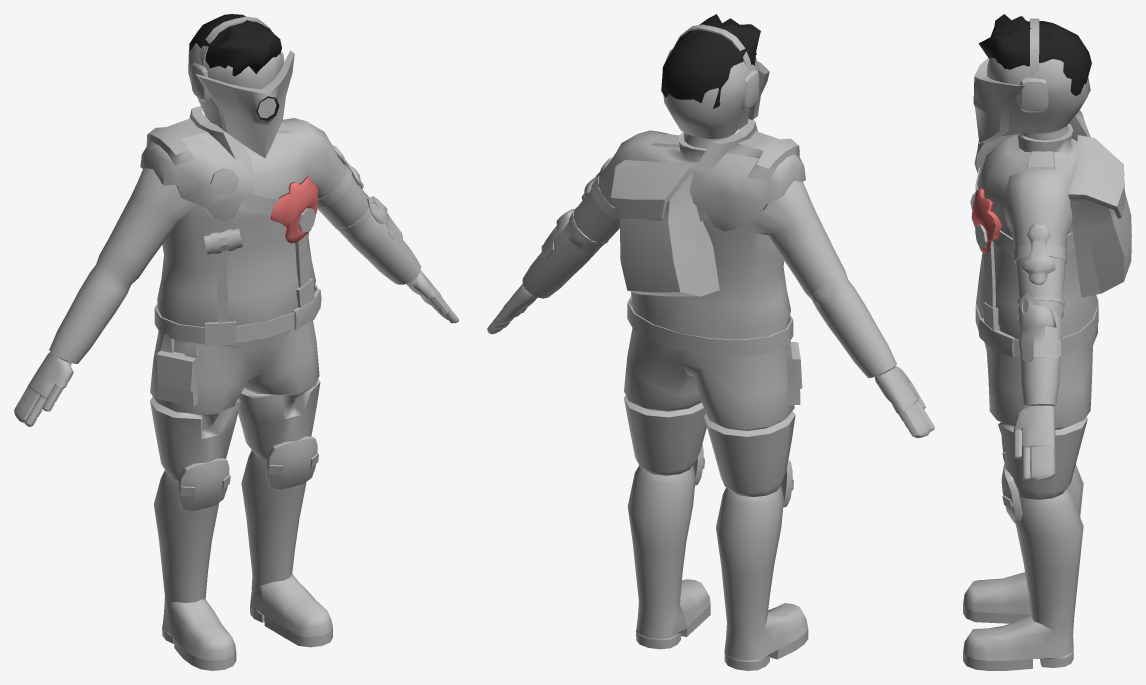
Rendered from C_Gunner_aPose.fbx.
3 views of the same model, side by side, from view 1: azimuth 30°, elevation 25°; view 2: azimuth 150°, elevation 25°; view 3: azimuth 270°, elevation 25° (orthographic).
Parts seen in each view (by area): view 1: body, pauldron, helmet, knee_covers, hair, waist_belt, belt_pouch, chest_piece, straps, headphones, ammo_rounds; view 2: body, backpack, pauldron, hair, helmet, waist_belt, headphones, belt_pouch, knee_covers; view 3: body, backpack, helmet, hair, forearm_guard, waist_belt, headphones, upper_arm_guard, chest_piece, straps, knee_covers, pauldron (+2 smaller).
Boxes of the visible parts, x1,y1,x2,y2 form: body: (14,117,458,670); pauldron: (140,106,254,221); helmet: (188,43,294,158); knee_covers: (177,436,318,510); hair: (189,14,281,76); waist_belt: (154,284,321,346); belt_pouch: (156,333,198,406); chest_piece: (270,176,318,243); straps: (215,219,314,322); headphones: (191,16,284,101); ammo_rounds: (203,229,242,254); body: (487,130,934,670); backpack: (611,160,719,296); pauldron: (689,119,805,231); hair: (661,14,760,108); helmet: (662,47,769,138); waist_belt: (627,296,793,356); headphones: (674,24,759,109); belt_pouch: (784,324,802,405); knee_covers: (693,443,793,507); body: (963,123,1098,670); backpack: (1068,135,1131,297); helmet: (973,57,1090,142); hair: (978,14,1091,96); forearm_guard: (1017,293,1061,362); waist_belt: (975,304,1098,357); headphones: (1019,18,1048,112); upper_arm_guard: (1022,223,1055,285); chest_piece: (971,188,1001,252); straps: (983,241,999,331); knee_covers: (1001,436,1022,522); pauldron: (974,110,1090,172).
Size of the model in its own units: 141 by 190 by 47.3.
